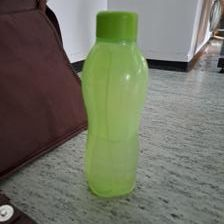bottle: (78, 6, 153, 199)
